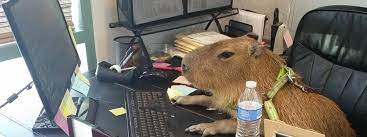capivara: (172, 35, 357, 137)
